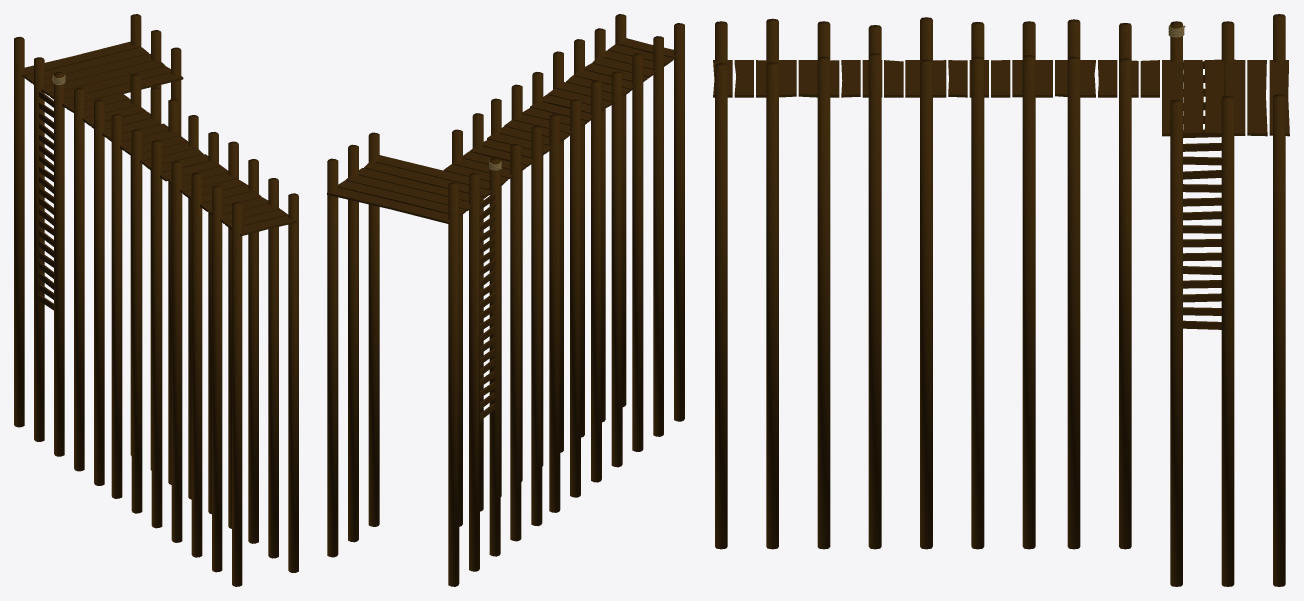
The model's file is WoodenPier_Cargo.fbx.
The picture shows the model from 3 angles, left to right: view 1: azimuth 30°, elevation 25°; view 2: azimuth 150°, elevation 25°; view 3: azimuth 270°, elevation 25°; orthographic projection. The views are drawn at different scales.
Parts seen in each view (by area): view 1: WoodenPier_Poles, WoodenPier_Planks, WoodenPier_Ladder; view 2: WoodenPier_Poles, WoodenPier_Planks, WoodenPier_Ladder; view 3: WoodenPier_Poles, WoodenPier_Planks, WoodenPier_Ladder.
Part boxes in pixels (x1,y1,x2,y2): WoodenPier_Poles: (14, 14, 298, 586); WoodenPier_Planks: (22, 41, 296, 236); WoodenPier_Ladder: (39, 91, 53, 310); WoodenPier_Poles: (327, 14, 684, 586); WoodenPier_Planks: (327, 38, 676, 224); WoodenPier_Ladder: (480, 193, 495, 420); WoodenPier_Poles: (715, 14, 1285, 586); WoodenPier_Planks: (713, 59, 1289, 136); WoodenPier_Ladder: (1183, 61, 1221, 329).
Size of the model in its own units: 12.89 by 37.45 by 39.57.
